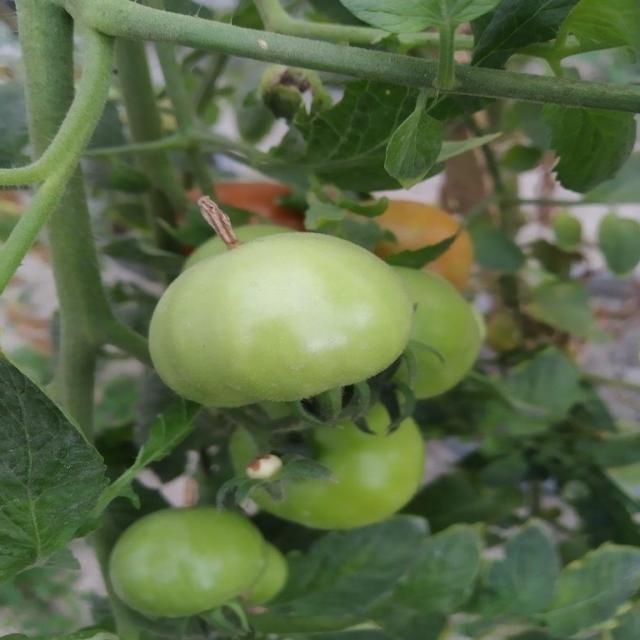Unripe: (150, 233, 409, 408), (110, 508, 272, 623)
